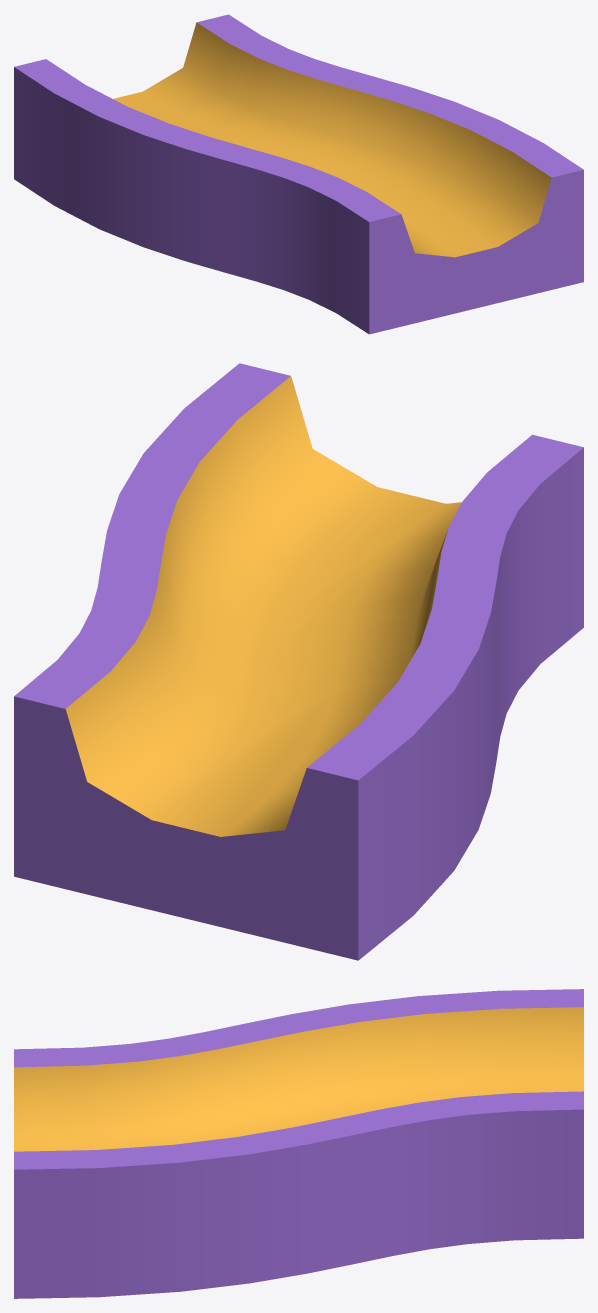
File: s-curve-short-left-b.glb
The picture shows the model from 3 angles, top to bottom: view 1: azimuth 30°, elevation 25°; view 2: azimuth 150°, elevation 25°; view 3: azimuth 270°, elevation 25°; orthographic projection. The views are drawn at different scales.
Parts seen in each view (by area): view 1: s-curve-short-left-b; view 2: s-curve-short-left-b; view 3: s-curve-short-left-b.
Boxes of the visible parts, x1=… form: s-curve-short-left-b: x1=14, y1=14, x2=583, y2=334; s-curve-short-left-b: x1=14, y1=363, x2=583, y2=960; s-curve-short-left-b: x1=14, y1=989, x2=583, y2=1298.
Size of the model in its own units: 1.5 by 0.5001 by 2.
Materials: 1 (1 with a texture image).
